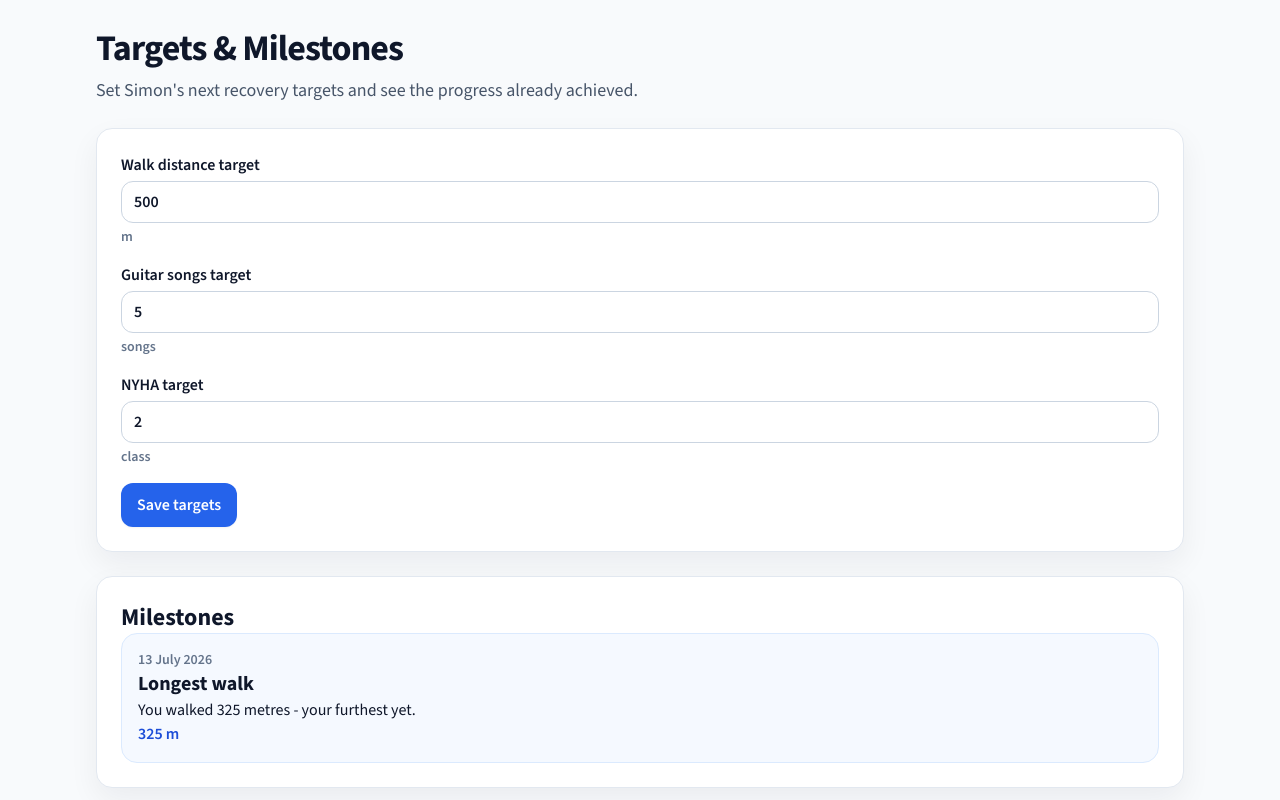
Test: Targets › saves all changed targets and shows saved feedback
The width and height of the screenshot is (1280, 800).
Replace the text in the number field labelled "Walk distance target" with "650" at (640, 202), box 121,181 -> 1159,223
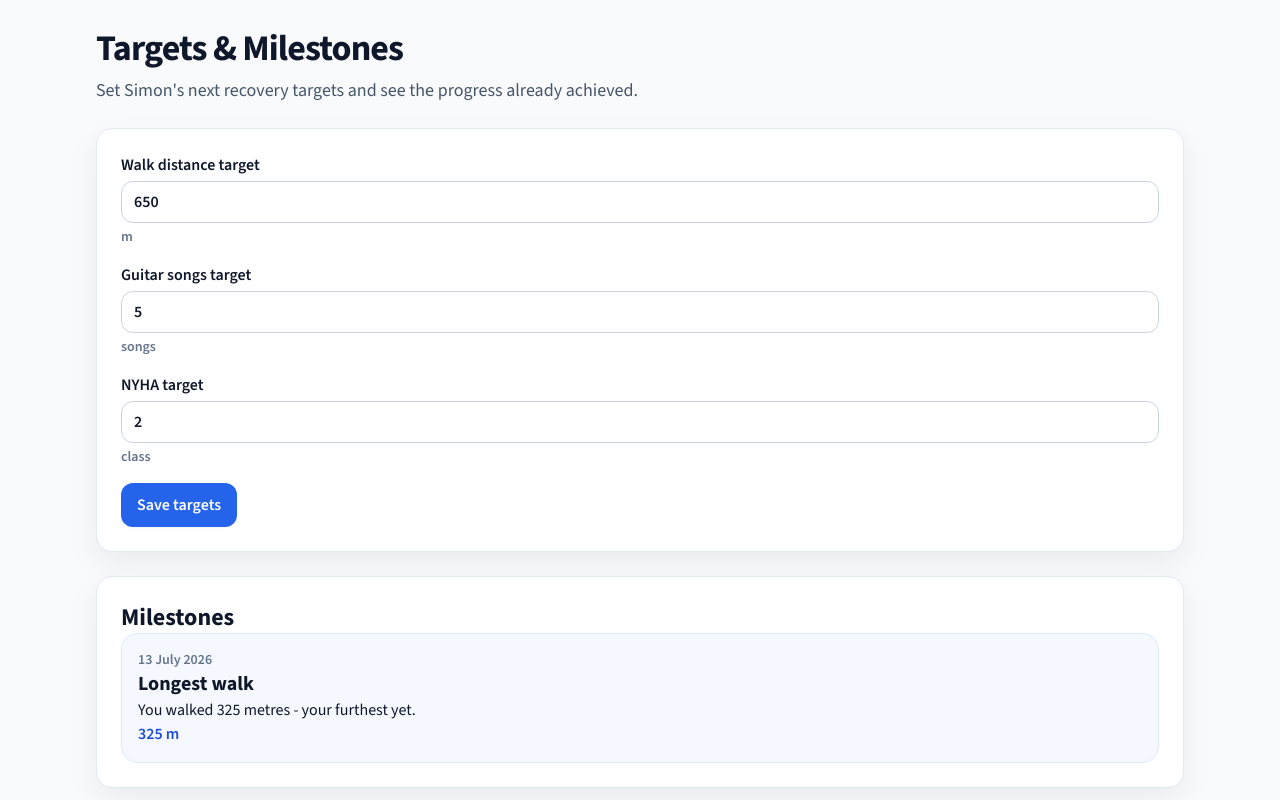
Replace the text in the number field labelled "Guitar songs target" with "6" at (640, 312), box 121,291 -> 1159,333
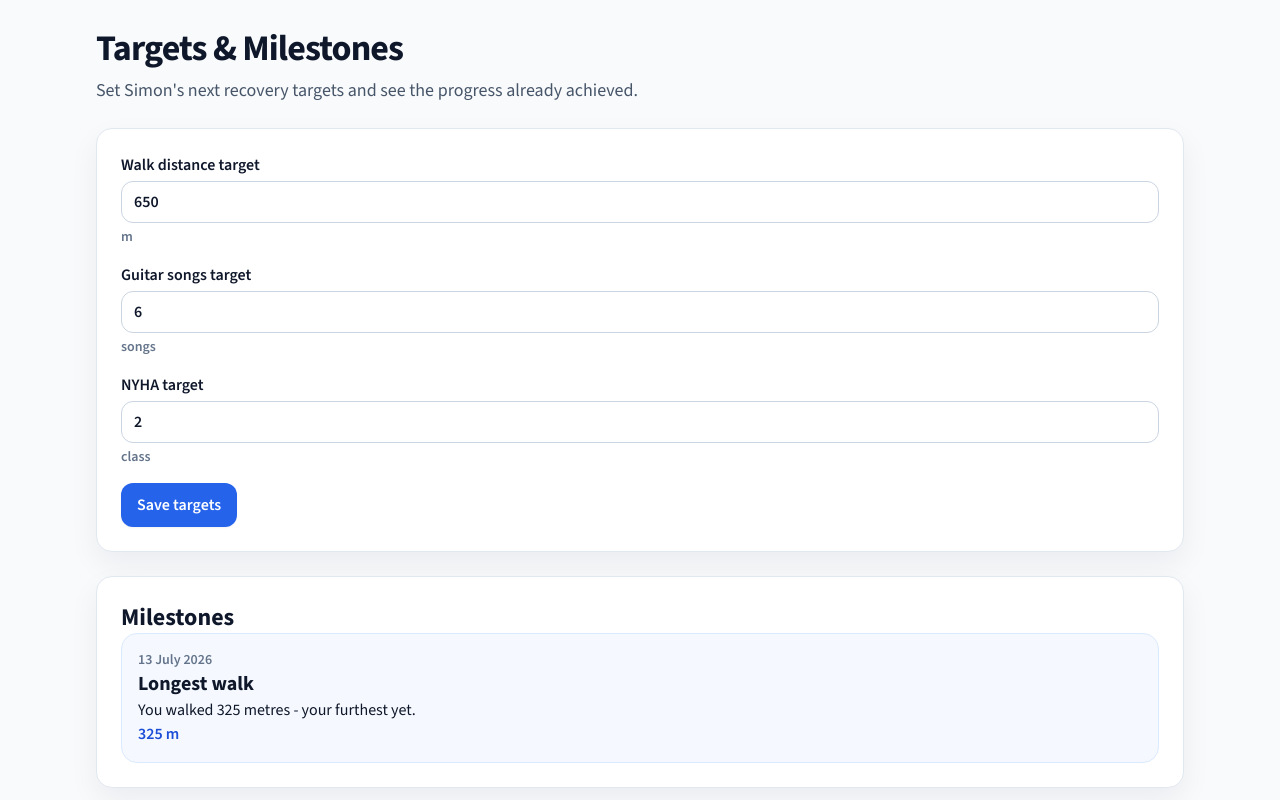
Replace the text in the number field labelled "NYHA target" with "1" at (640, 422), box 121,401 -> 1159,443
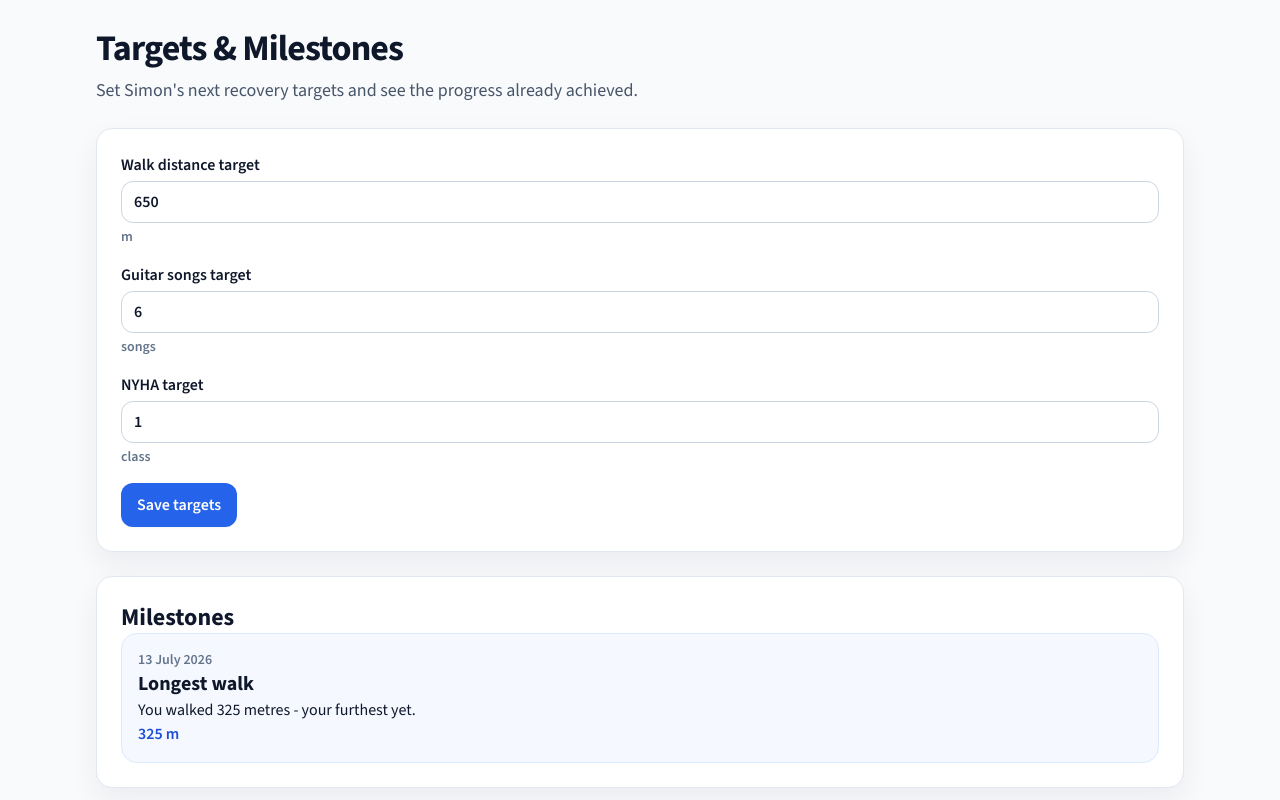
Click the button "Save targets" at (179, 505), box 121,483 -> 237,527
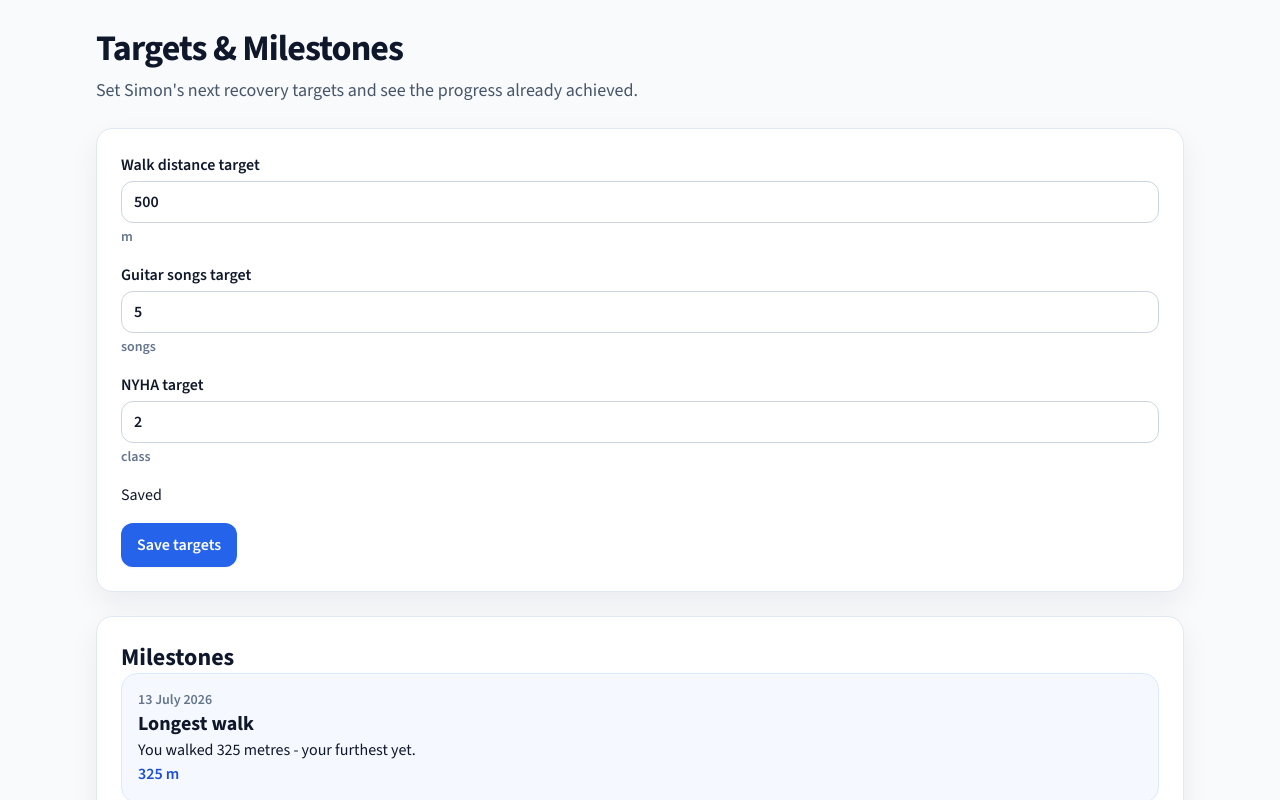
Expected: the text "Saved" is shown, 121,484 -> 162,505
